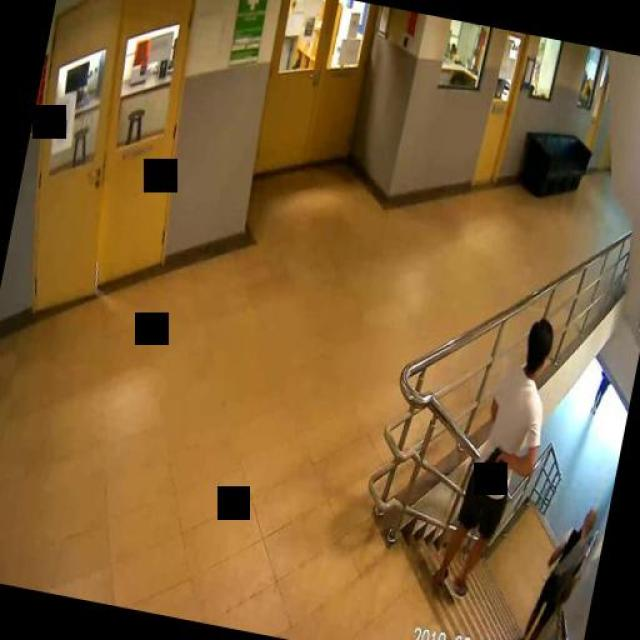gun: (473, 441, 508, 480)
